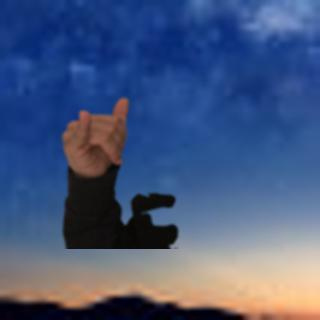HAVE: (56, 94, 141, 179)
